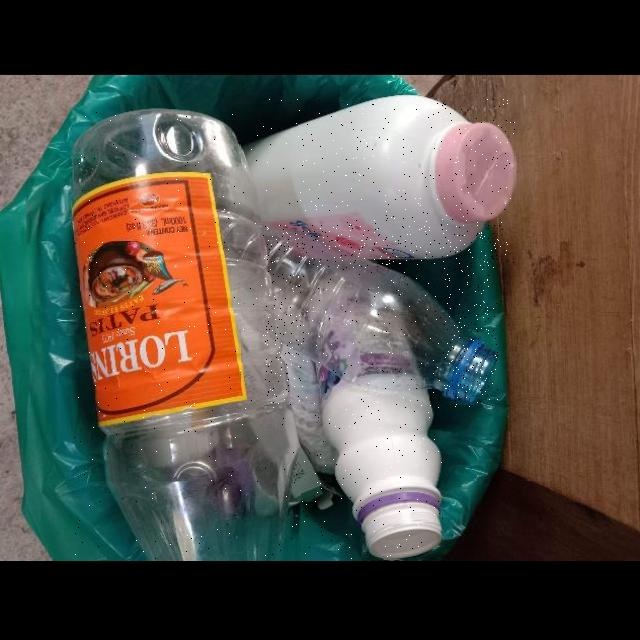plastic: (69, 109, 298, 561), (245, 97, 515, 263), (264, 226, 498, 407), (302, 269, 443, 559)
